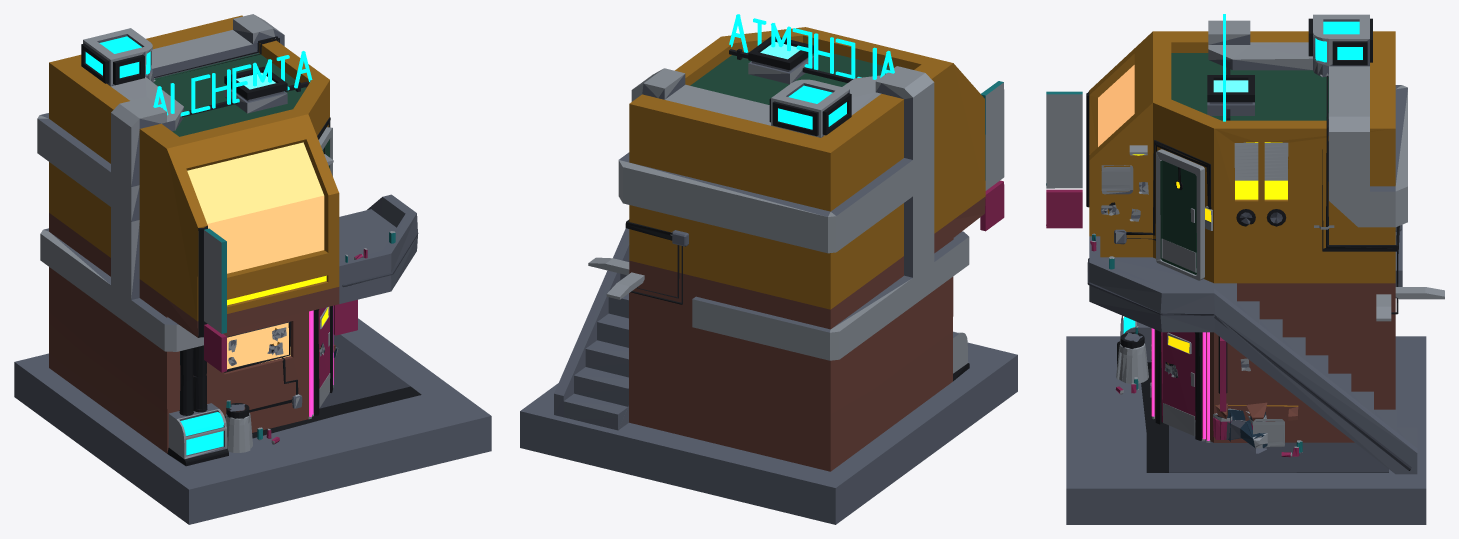
The model's file is alchemia-props.glb.
3 views of the same model, side by side, from view 1: azimuth 30°, elevation 25°; view 2: azimuth 150°, elevation 25°; view 3: azimuth 270°, elevation 25° (orthographic). The views are drawn at different scales.
Visible parts, largest first — view 1: alchemia-hall, alchemia-stall-1; view 2: alchemia-hall; view 3: alchemia-hall, alchemia-stall-1, alchemia-stall-4, alchemia-stall-5.
Boxes of the visible parts, x1,y1,x2,y2 form: alchemia-hall: (14,14,491,524); alchemia-stall-1: (252,334,421,438); alchemia-hall: (520,14,1017,524); alchemia-hall: (1046,14,1444,524); alchemia-stall-1: (1141,368,1388,472); alchemia-stall-4: (1213,413,1267,448); alchemia-stall-5: (1215,402,1298,453).
Bounding box in the file's own units: 11.03 × 12.92 × 12.21.
Materials: 1 (1 with a texture image).
